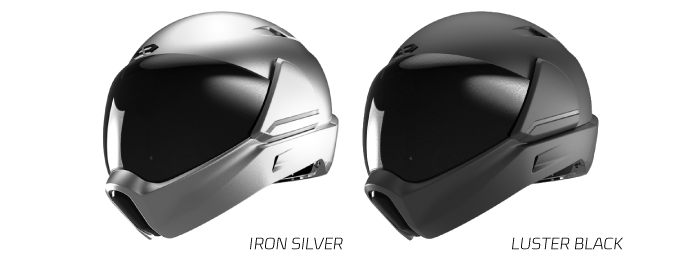with_helmet: (96, 1, 339, 241), (359, 7, 601, 242)
